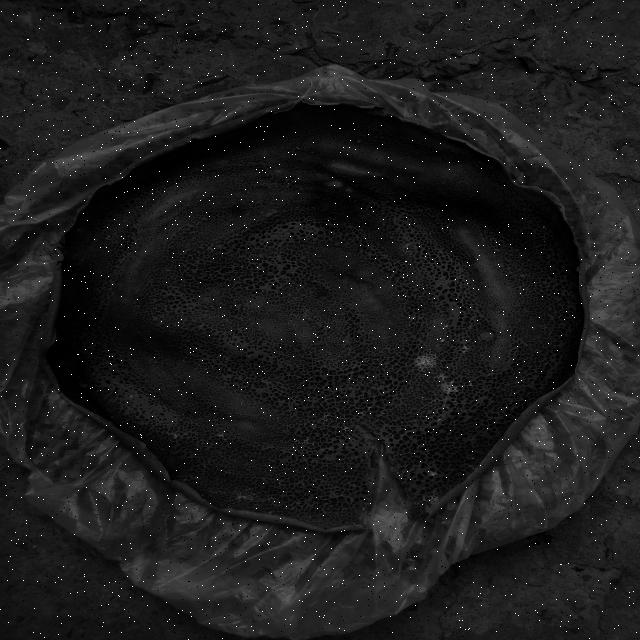injera_mold: (418, 492, 444, 512), (435, 373, 458, 394), (411, 353, 436, 371), (316, 414, 346, 426), (540, 222, 556, 244), (460, 456, 481, 472), (234, 489, 254, 501), (406, 314, 428, 324), (290, 438, 314, 447), (460, 345, 471, 355), (402, 244, 414, 253), (169, 434, 183, 440), (78, 382, 90, 389), (306, 502, 320, 508), (206, 365, 216, 372), (429, 471, 437, 478), (262, 479, 273, 484), (217, 357, 226, 363), (208, 488, 218, 493), (294, 503, 302, 509), (178, 361, 186, 367), (441, 403, 449, 409), (198, 443, 205, 449), (89, 343, 96, 349), (273, 501, 280, 507), (238, 401, 245, 407), (522, 275, 530, 280), (218, 432, 224, 438), (128, 394, 134, 400), (253, 504, 260, 509), (295, 146, 301, 151), (343, 490, 348, 496), (111, 386, 116, 392), (440, 339, 446, 343), (188, 418, 193, 422), (105, 236, 110, 240), (94, 390, 100, 393), (93, 372, 97, 376)
